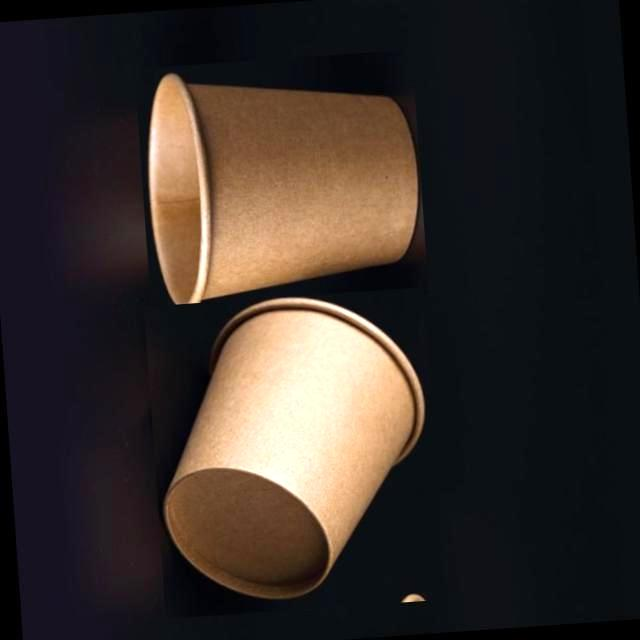Coffee Cup: (159, 286, 429, 604), (146, 70, 427, 312)
